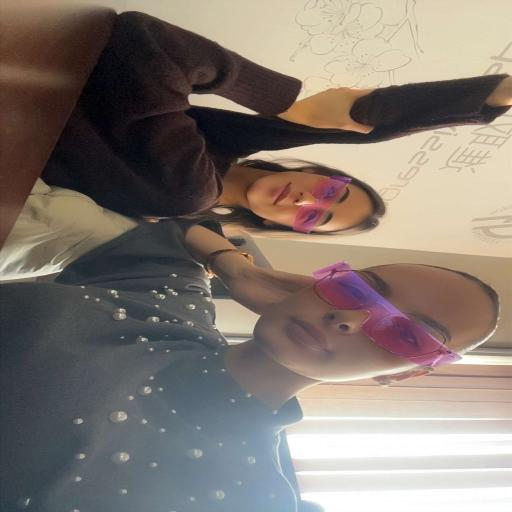marija: (250, 266, 494, 377)
masa: (251, 166, 375, 234)
